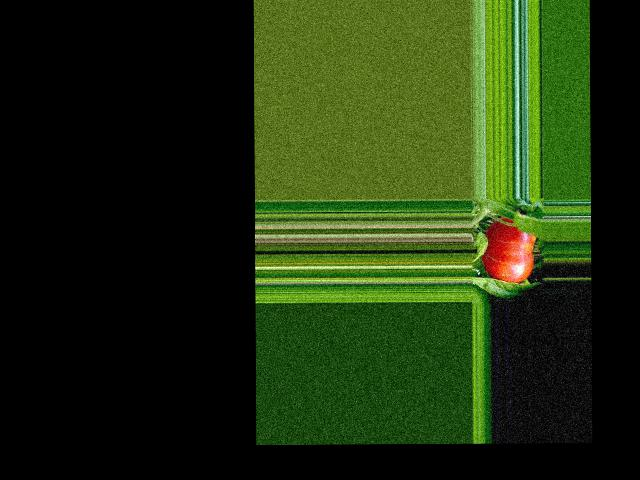tomato: (481, 216, 536, 283)
